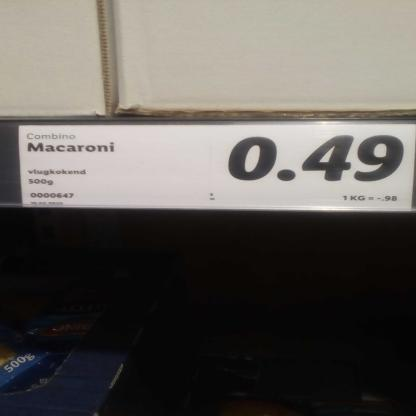prtg: (20, 125, 416, 213)
